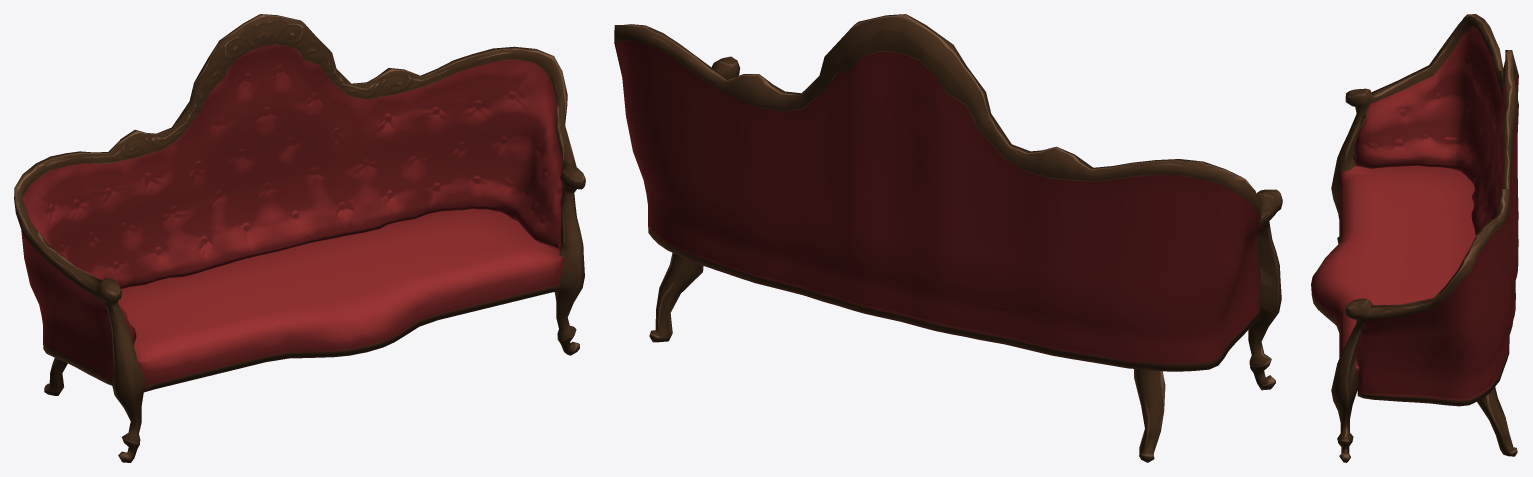
File: sofa_victorian.glb
3 views of the same model, side by side, from view 1: azimuth 30°, elevation 25°; view 2: azimuth 150°, elevation 25°; view 3: azimuth 270°, elevation 25° (orthographic). The views are drawn at different scales.
Parts seen in each view (by area): view 1: seat_low_9; view 2: seat_low_9; view 3: seat_low_9.
Part boxes in pixels (left/top/right/bottom): seat_low_9: left=14, top=14, right=585, bottom=462; seat_low_9: left=614, top=14, right=1282, bottom=462; seat_low_9: left=1311, top=14, right=1518, bottom=462.
Bounding box in the file's own units: 2.48 × 1.43 × 0.8747.
1 material, 1 textured.
